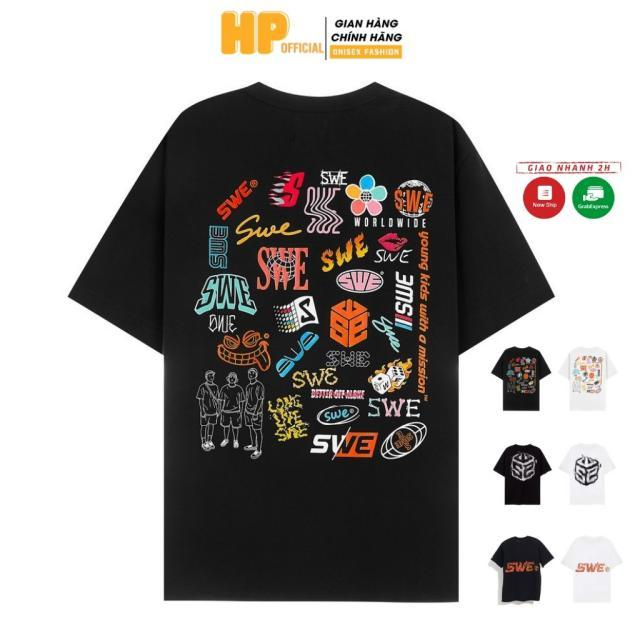Shirt: (61, 78, 563, 613)
